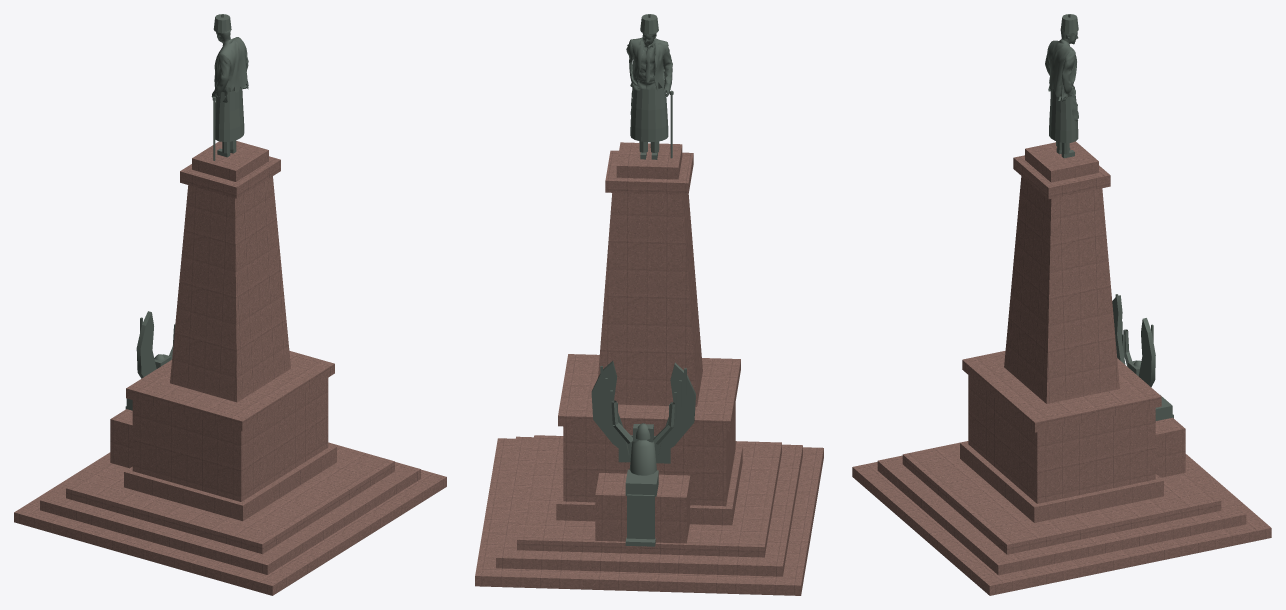
The model's file is saad-zaghloul.glb.
The picture shows the model from 3 angles, left to right: view 1: azimuth 30°, elevation 25°; view 2: azimuth 150°, elevation 25°; view 3: azimuth 270°, elevation 25°; orthographic projection. The views are drawn at different scales.
Parts seen in each view (by area): view 1: SaadZaghloul; view 2: SaadZaghloul; view 3: SaadZaghloul.
Part boxes in pixels (left/top/right/bottom): SaadZaghloul: left=14, top=14, right=446, bottom=595; SaadZaghloul: left=475, top=14, right=823, bottom=595; SaadZaghloul: left=852, top=14, right=1271, bottom=595.
Bounding box in the file's own units: 13.37 × 17.28 × 13.37.
2 materials, 1 textured.
